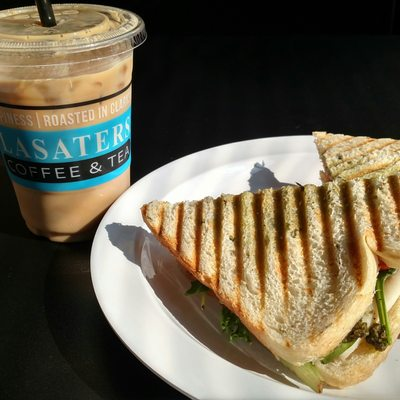soup: (141, 170, 400, 395)
